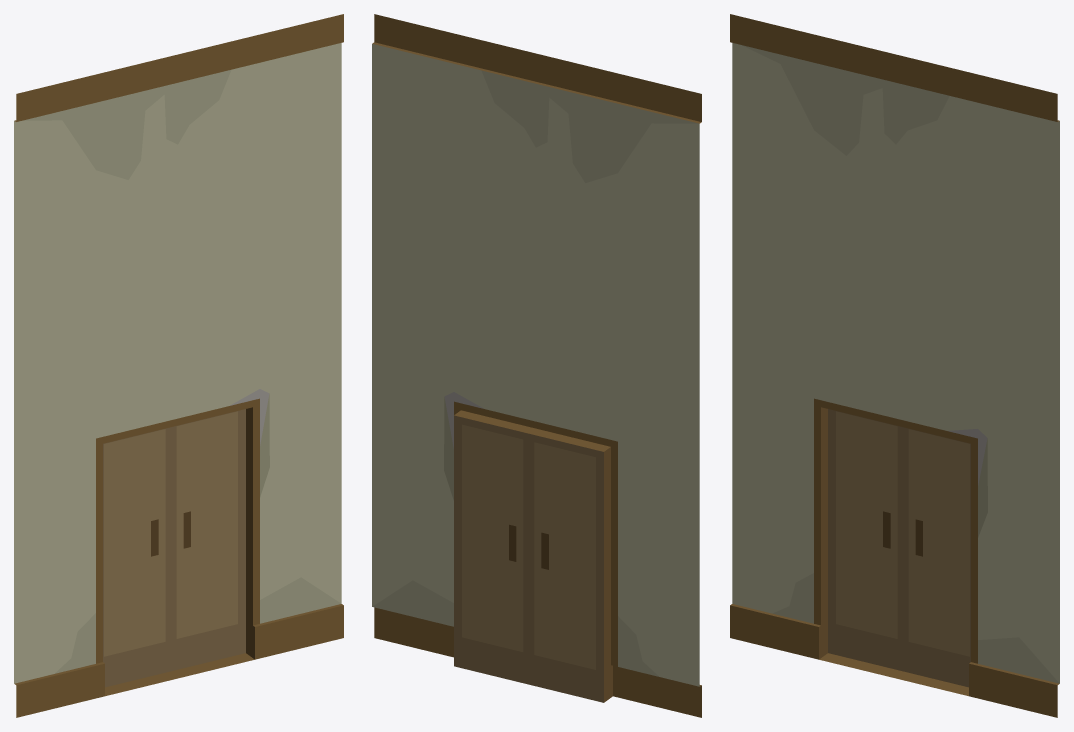
File: AI_Env_Wall_Church_Door.fbx
3 views of the same model, side by side, from view 1: azimuth 30°, elevation 25°; view 2: azimuth 150°, elevation 25°; view 3: azimuth 330°, elevation 25° (orthographic).
Parts seen in each view (by area): view 1: AI_Env_Wall_Church_Door; view 2: AI_Env_Wall_Church_Door; view 3: AI_Env_Wall_Church_Door.
Boxes of the visible parts, bbox=[...] form: AI_Env_Wall_Church_Door: bbox=[14, 14, 343, 717]; AI_Env_Wall_Church_Door: bbox=[372, 14, 701, 717]; AI_Env_Wall_Church_Door: bbox=[730, 14, 1059, 717].
Size of the model in its own units: 5 by 9.1 by 0.2395.
